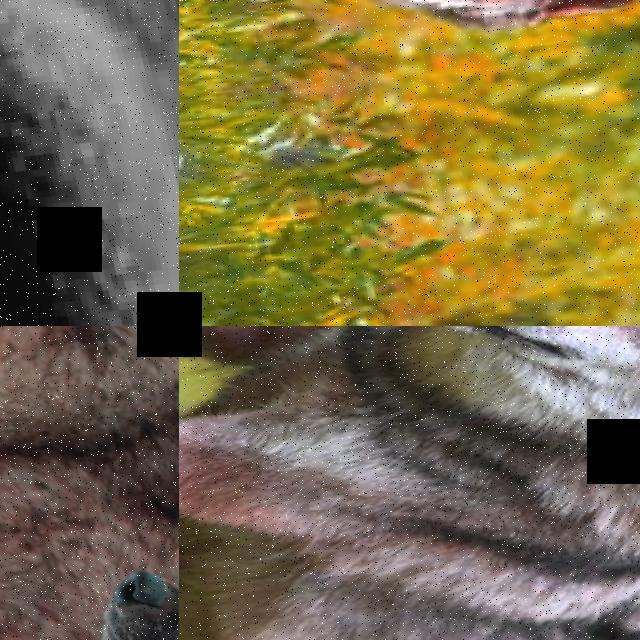dog: (0, 0, 179, 326)
wolf: (179, 326, 640, 640), (179, 0, 640, 133), (0, 326, 179, 640)
